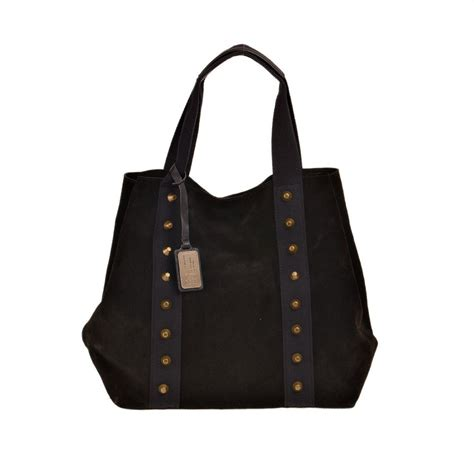gamuza: (83, 169, 378, 410)
